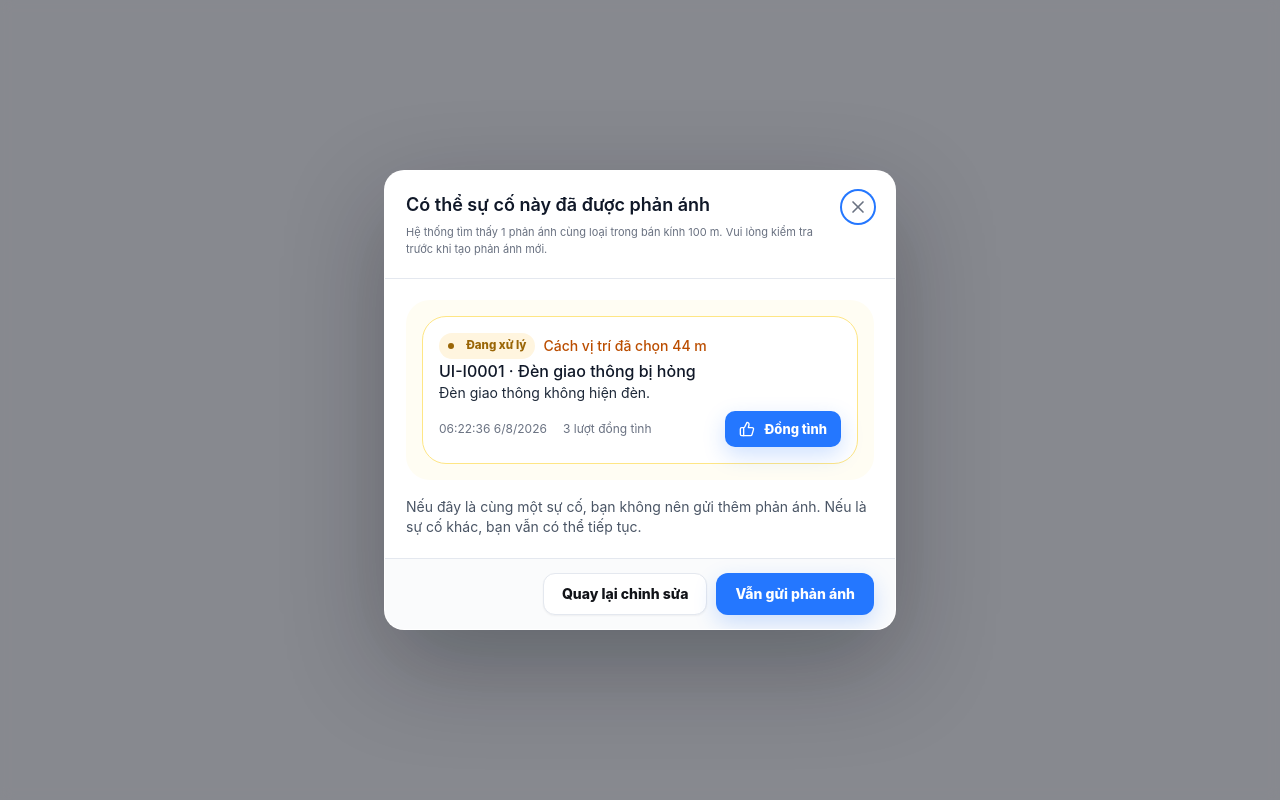
Scenario: DuplicateReportsDialog › shows the API error and allows the user to try again
Click the button "Đồng tình". click: click(783, 429)
box: 725,411 -> 841,447
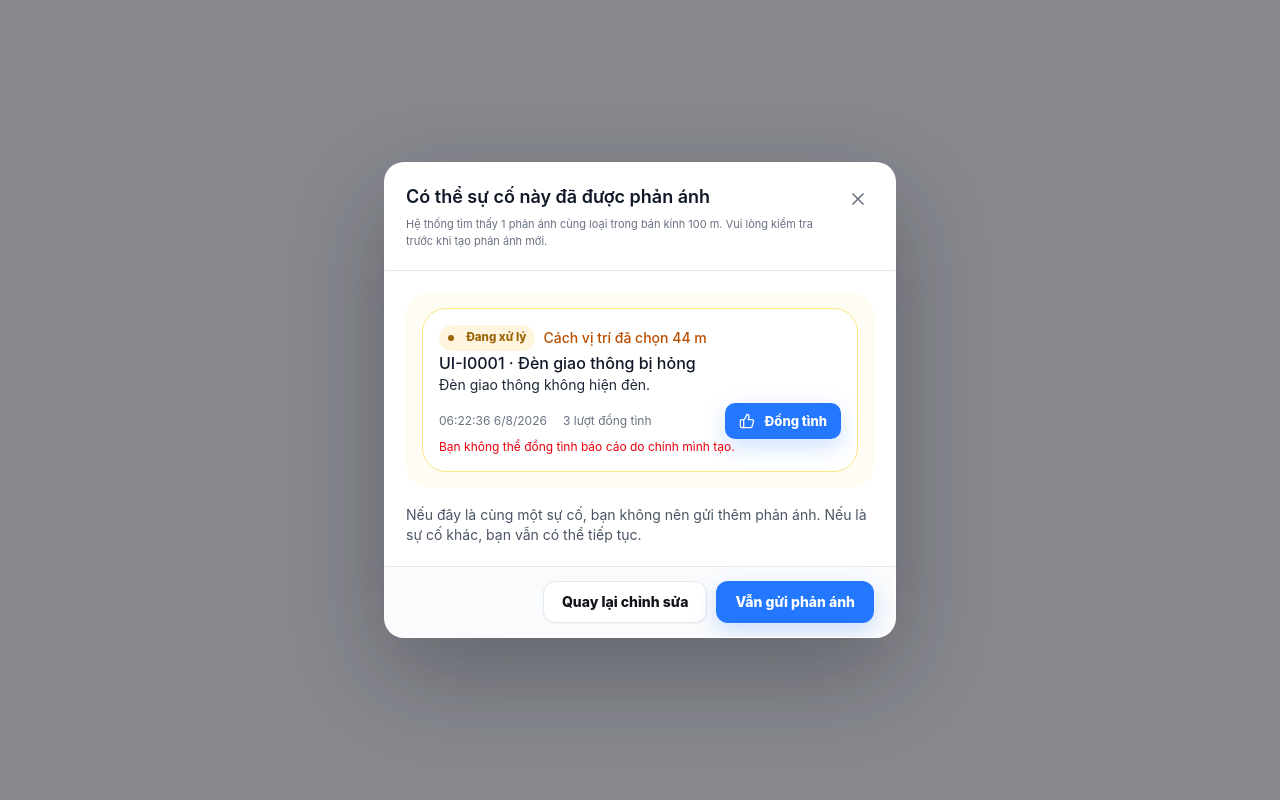
Result: the text "Bạn không thể đồng tình báo cáo do chính mình tạo." is shown at 439,439 -> 735,454
